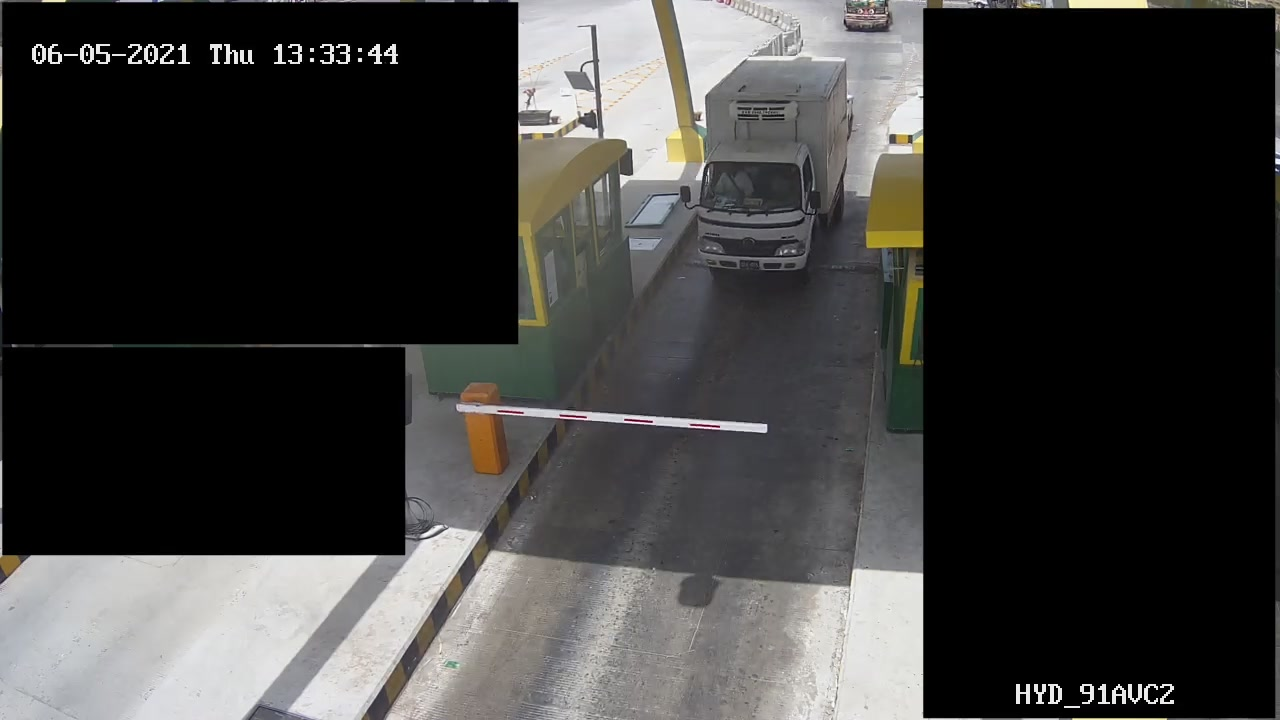F5: (683, 54, 846, 281)
